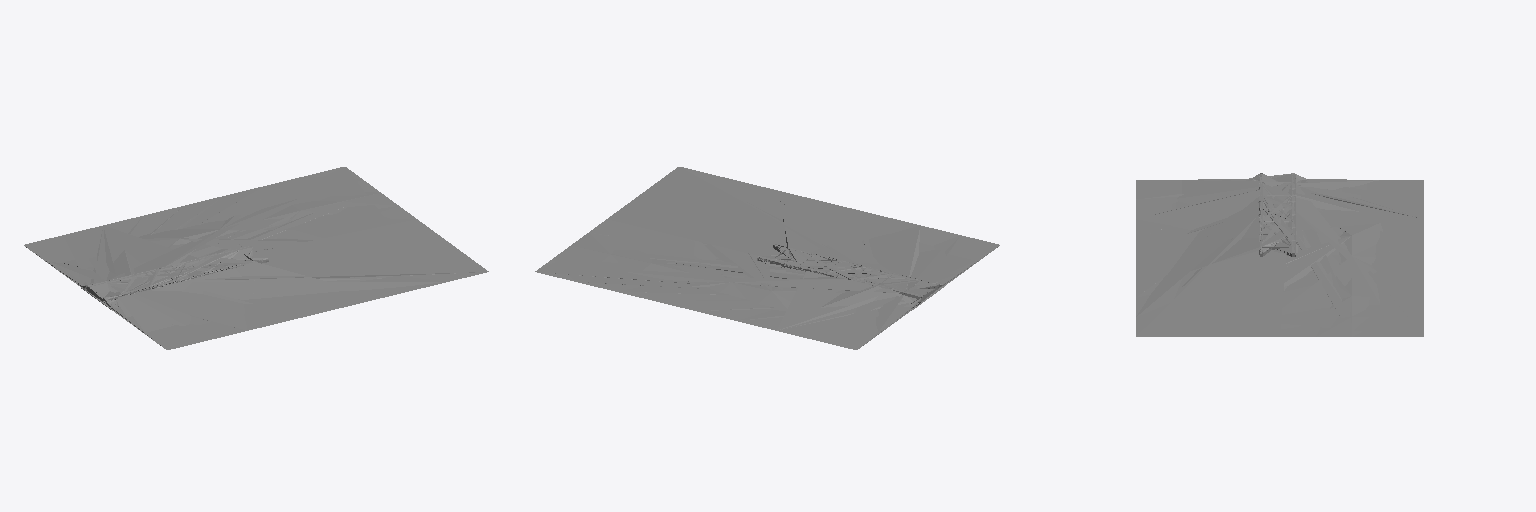
The model's file is Tunnel_End.obj.
3 views of the same model, side by side, from view 1: azimuth 30°, elevation 25°; view 2: azimuth 150°, elevation 25°; view 3: azimuth 270°, elevation 25° (orthographic).
Parts seen in each view (by area): view 1: Line005, Mod_Train_Track020, Plane007; view 2: Line005, Mod_Train_Track020, Plane007; view 3: Line005, Mod_Train_Track020, Plane007.
Part boxes in pixels (bbox=[...]): Line005: bbox=[24, 167, 488, 337]; Mod_Train_Track020: bbox=[26, 176, 486, 349]; Plane007: bbox=[30, 167, 398, 343]; Line005: bbox=[536, 167, 982, 349]; Mod_Train_Track020: bbox=[553, 167, 999, 348]; Plane007: bbox=[535, 201, 993, 343]; Line005: bbox=[1136, 174, 1423, 336]; Mod_Train_Track020: bbox=[1136, 173, 1423, 336]; Plane007: bbox=[1136, 200, 1423, 336].
Bounding box in the file's own units: 1022 × 23.94 × 792.